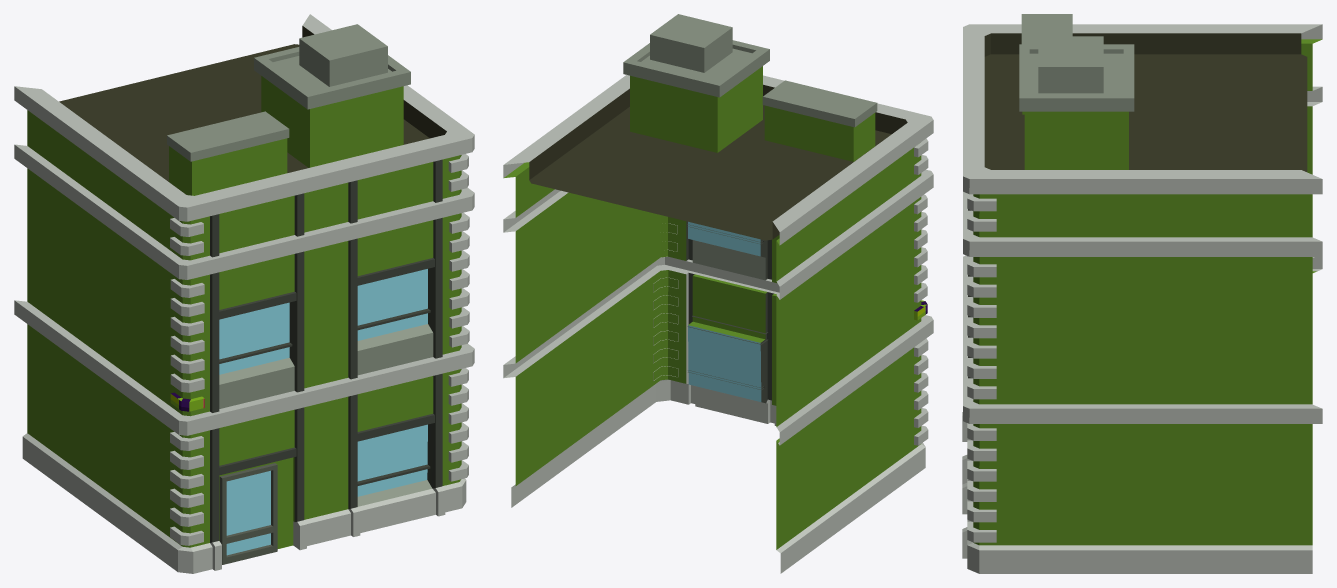
Rendered from House2.fbx.
The picture shows the model from 3 angles, left to right: view 1: azimuth 30°, elevation 25°; view 2: azimuth 150°, elevation 25°; view 3: azimuth 270°, elevation 25°; orthographic projection. The views are drawn at different scales.
Visible parts, largest first — view 1: House1 .001; view 2: House1 .001; view 3: House1 .001.
Part boxes in pixels (x1=…): House1 .001: x1=14, y1=14, x2=474, y2=573; House1 .001: x1=503, y1=14, x2=933, y2=573; House1 .001: x1=962, y1=14, x2=1322, y2=573.
Size of the model in its own units: 795 by 1150 by 782.
Materials: 1 (1 with a texture image).
